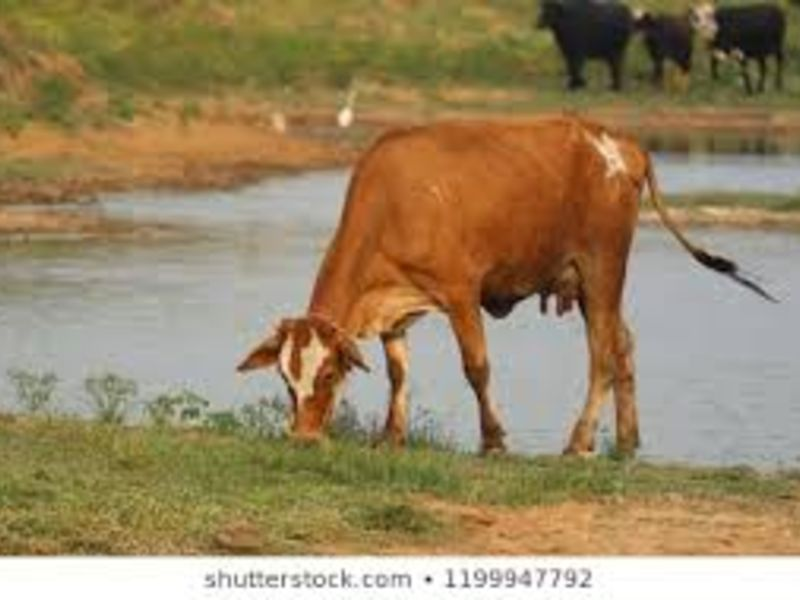cow: (239, 103, 713, 477)
